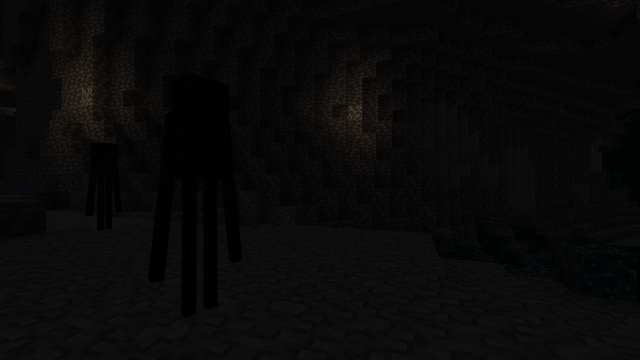endermens: (160, 63, 235, 327), (88, 139, 120, 231)
